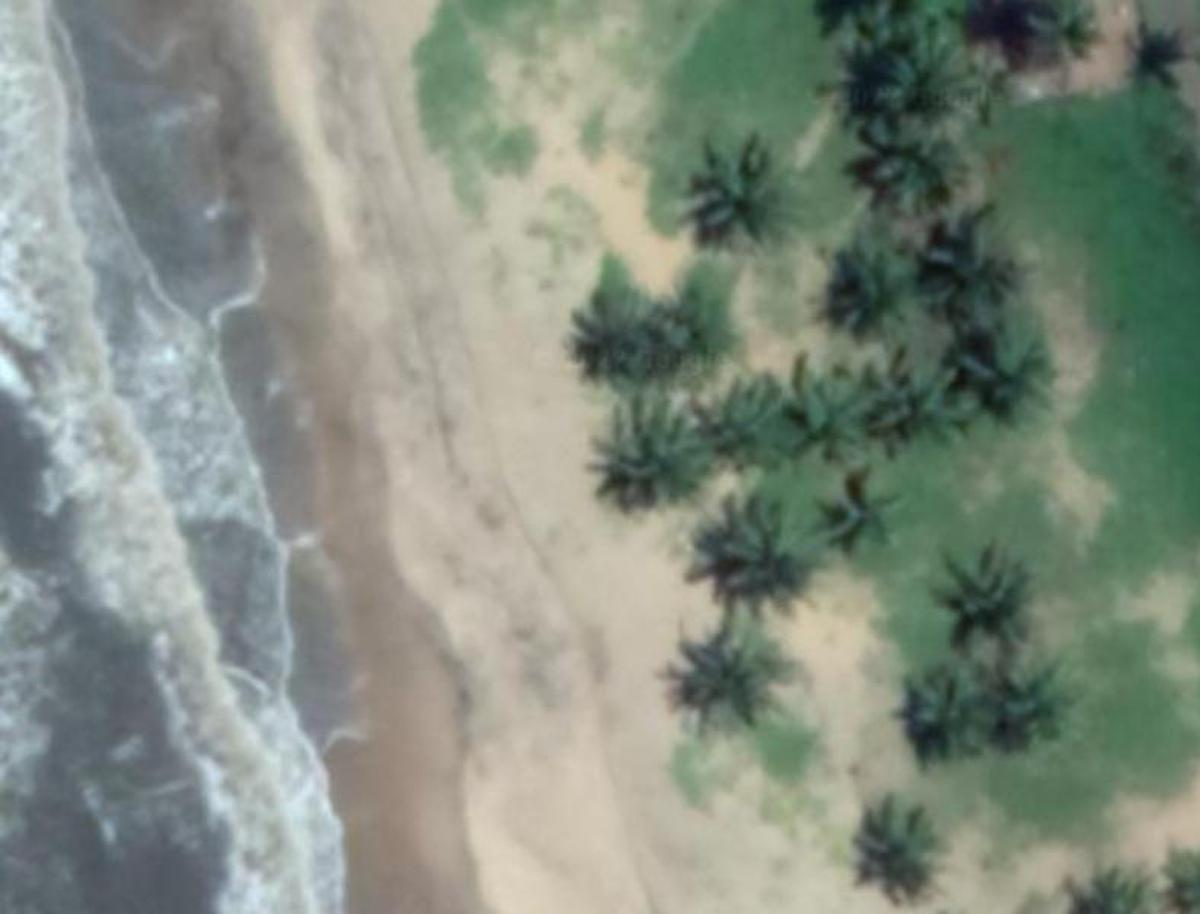coconut: (692, 499, 813, 618), (851, 27, 968, 140), (670, 137, 790, 246), (840, 787, 954, 900), (973, 638, 1084, 754), (852, 124, 979, 225), (590, 397, 703, 507), (680, 623, 796, 729), (846, 345, 954, 457), (935, 319, 1049, 425), (933, 543, 1040, 650), (564, 275, 670, 383), (918, 217, 1024, 325), (808, 242, 919, 342), (767, 357, 868, 458), (814, 469, 916, 560), (685, 377, 779, 472), (889, 656, 977, 757), (1011, 0, 1107, 80), (647, 278, 730, 368)
